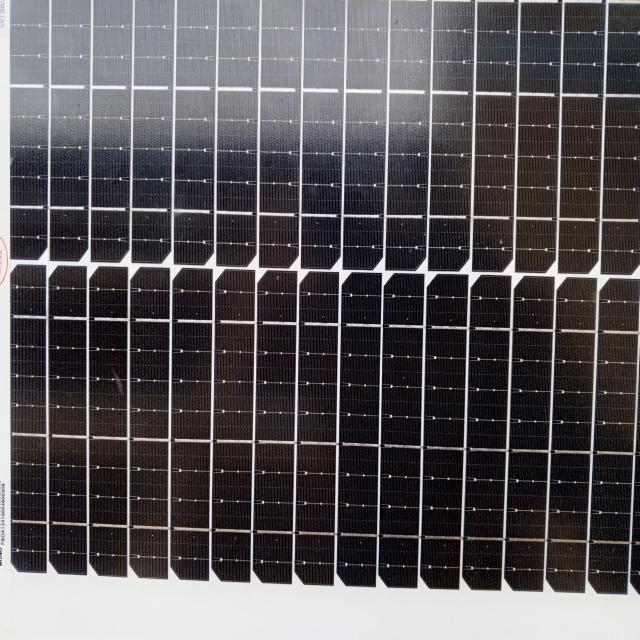Clean: (2, 0, 640, 628)
